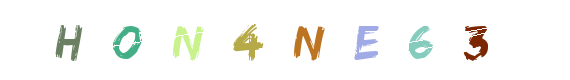3: (437, 0, 517, 80)
4: (229, 0, 309, 80)
6: (303, 0, 383, 80)
E: (279, 0, 359, 80)
H: (28, 0, 108, 80)
N: (178, 0, 258, 80), (246, 0, 326, 80)
O: (87, 0, 167, 80)
